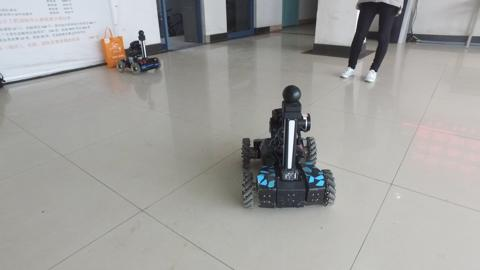bag: (99, 24, 126, 69)
chariot: (240, 83, 336, 210), (116, 29, 162, 77)
